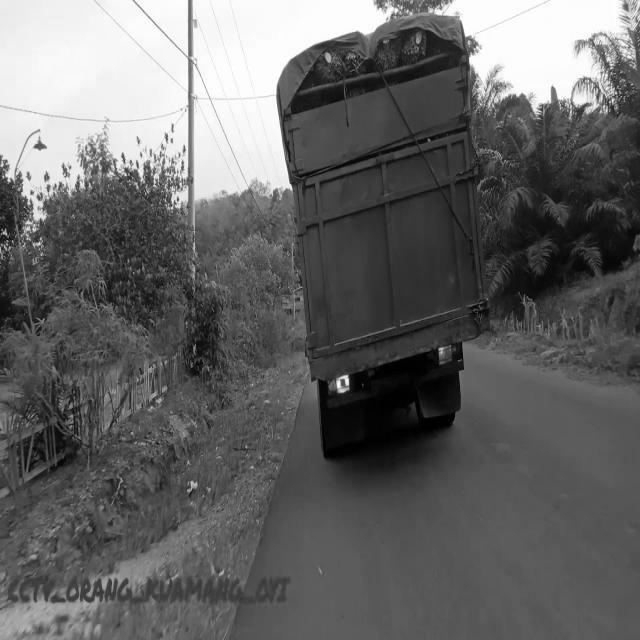truck: (277, 1, 490, 476)
